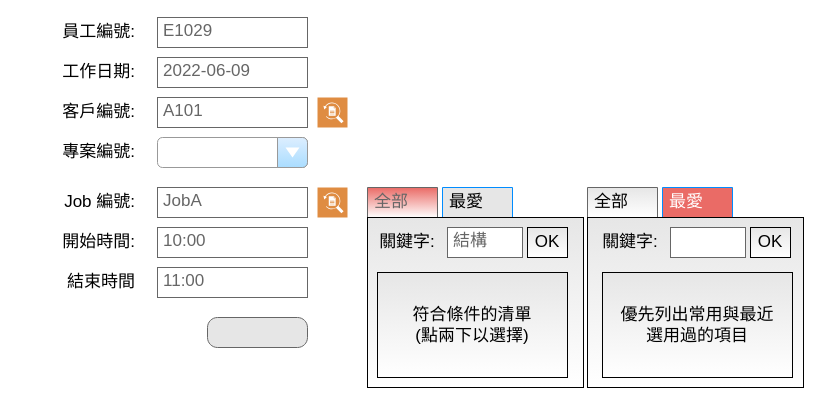
This 821x405 diagram has some shape labels left out. Here are the shapes that lost their labels. From the top down, the centre of each, then its label:
At point (232, 152): "ProjectD".
At point (257, 332): "確認送出".
